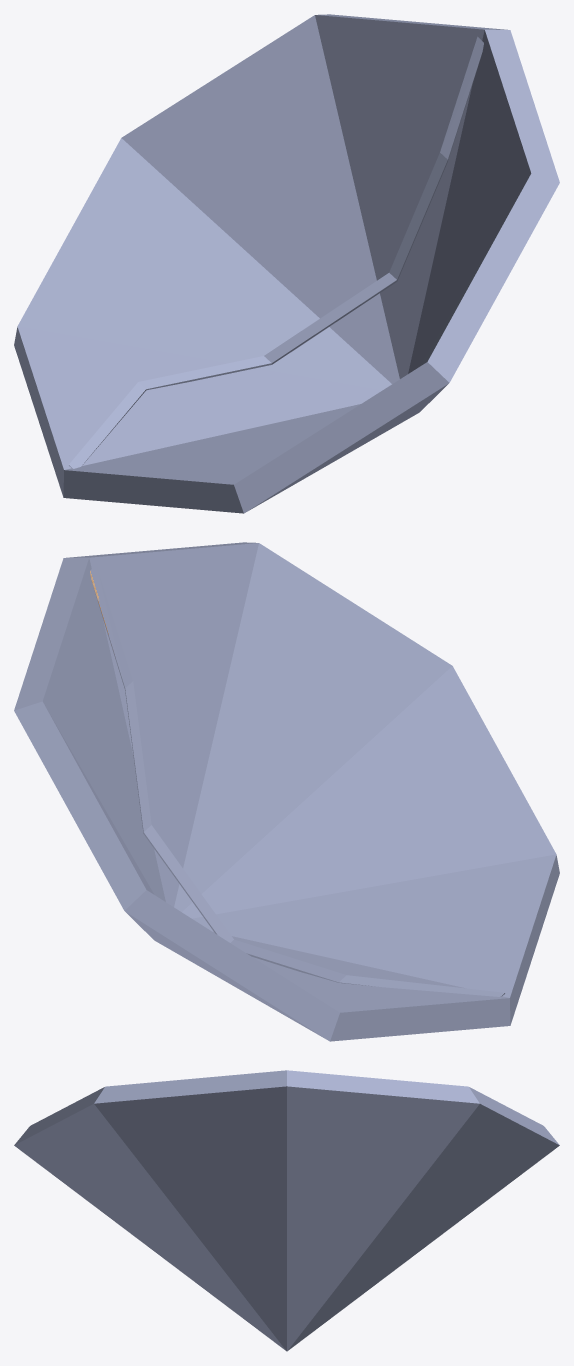
Rendered from nonla.FBX.
3 views of the same model, one above another, from view 1: azimuth 30°, elevation 25°; view 2: azimuth 150°, elevation 25°; view 3: azimuth 270°, elevation 25° (orthographic). The views are drawn at different scales.
Visible parts, largest first — view 1: Cylinder034; view 2: Cylinder034; view 3: Cylinder034.
Part boxes in pixels (x1=…): Cylinder034: x1=14, y1=14, x2=559, y2=513; Cylinder034: x1=14, y1=542, x2=559, y2=1041; Cylinder034: x1=14, y1=1070, x2=559, y2=1351.
Size of the model in its own units: 33.72 by 26.46 by 42.5.
